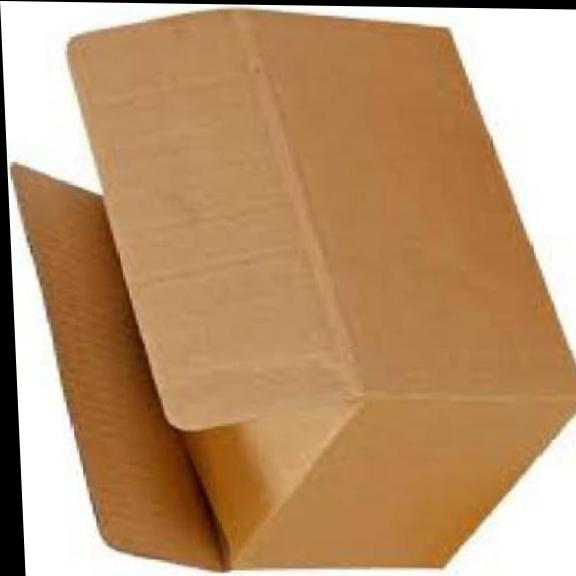Kertas: (12, 10, 576, 569)
